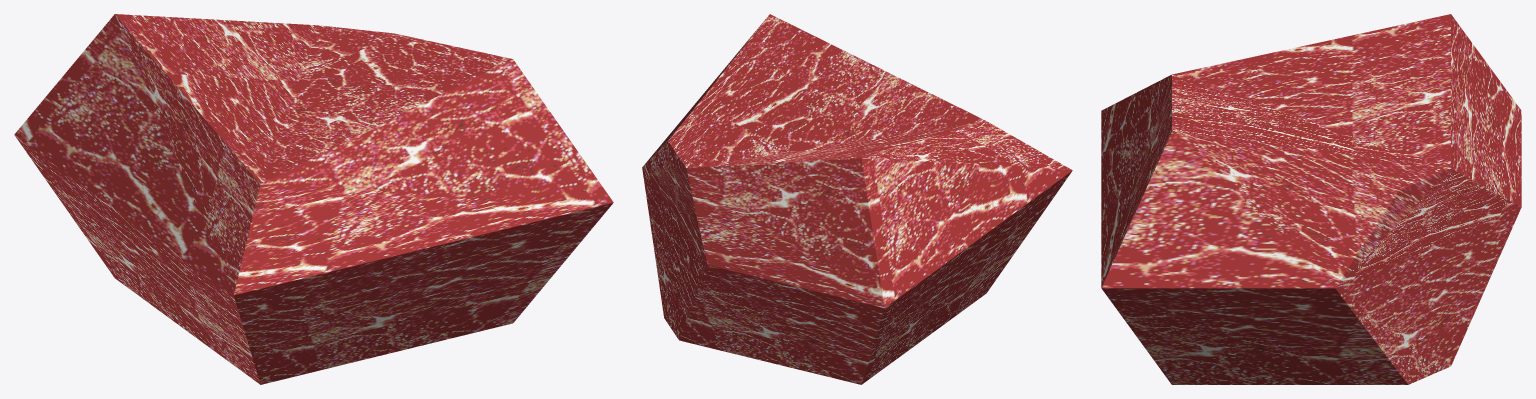
File: meat.fbx
3 views of the same model, side by side, from view 1: azimuth 30°, elevation 25°; view 2: azimuth 150°, elevation 25°; view 3: azimuth 270°, elevation 25° (orthographic). The views are drawn at different scales.
Visible parts, largest first — view 1: Cube; view 2: Cube; view 3: Cube.
Boxes of the visible parts, x1,y1,x2,y2 form: Cube: (14,14,613,384); Cube: (642,14,1072,384); Cube: (1101,14,1521,384).
Size of the model in its own units: 301 by 200 by 301.
Materials: 1 (1 with a texture image).
